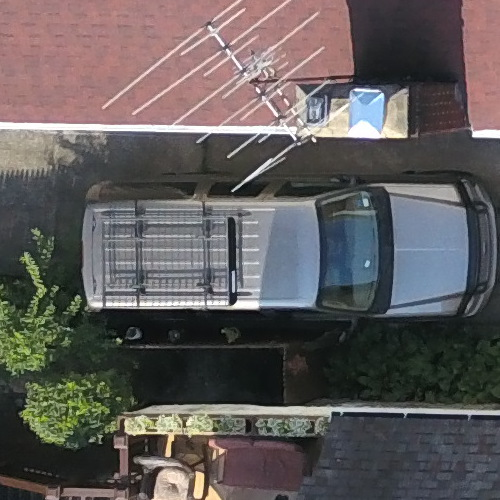flower pot: (120, 321, 147, 348), (219, 327, 244, 349)
porch: (113, 385, 346, 500)
